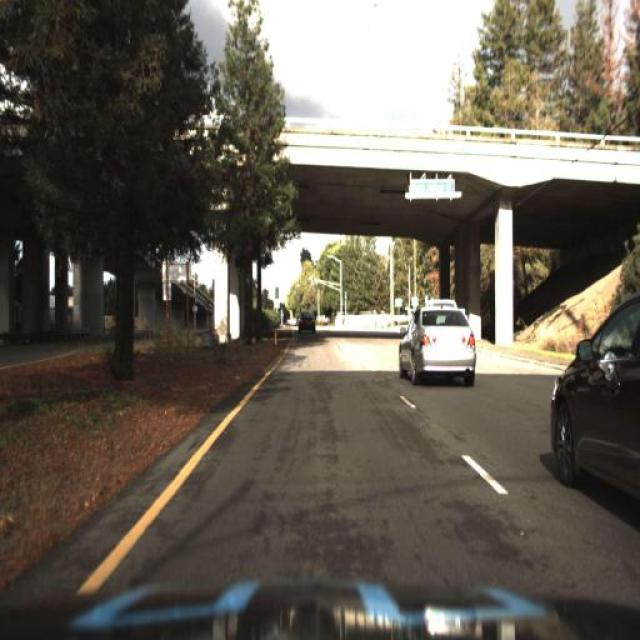car: (552, 300, 638, 516), (398, 299, 489, 379), (294, 306, 320, 332)
